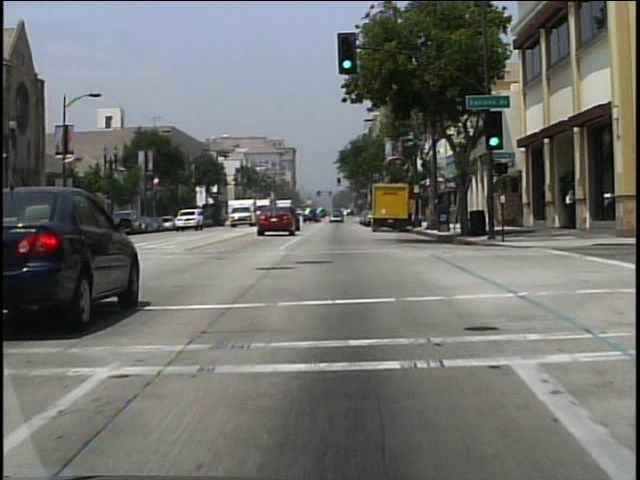person: (563, 190, 574, 230)
